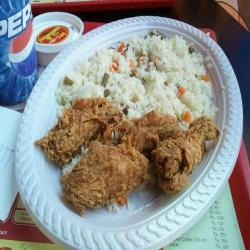rice: (65, 34, 216, 127)
